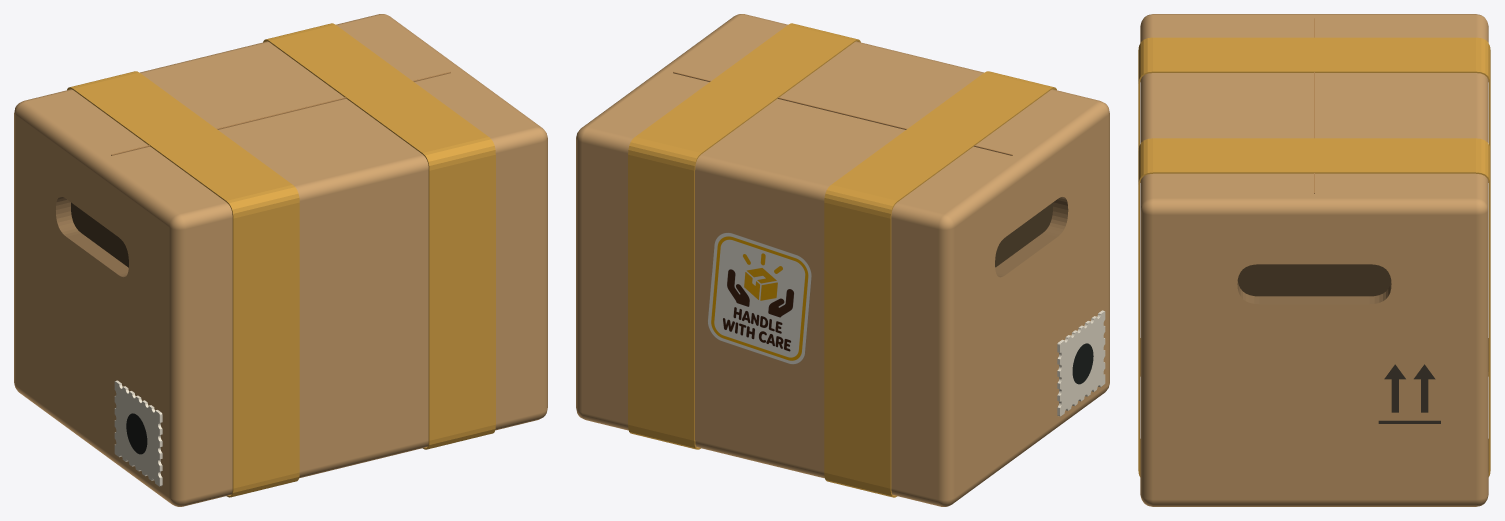
The model's file is play-parcel-large-yellow.glb.
The picture shows the model from 3 angles, left to right: view 1: azimuth 30°, elevation 25°; view 2: azimuth 150°, elevation 25°; view 3: azimuth 270°, elevation 25°; orthographic projection. The views are drawn at different scales.
Parts seen in each view (by area): view 1: Parcel_Carton, Parcel_Tape_Parallel_1, Parcel_Tape_Parallel_2, Parcel_Paper_Label, Parcel_Carry_Slot_Walls_Negative_X, Parcel_Carry_Slot_Interior_Negative_X, Parcel_Label_Circle; view 2: Parcel_Carton, Parcel_Tape_Parallel_1, Parcel_Tape_Parallel_2, Parcel_Care_H3_Artwork, Parcel_Paper_Label, Parcel_Carry_Slot_Walls_Negative_X, Parcel_Carry_Slot_Interior_Negative_X, Parcel_Label_Circle; view 3: Parcel_Carton, Parcel_Tape_Parallel_2, Parcel_Tape_Parallel_1, Parcel_Carry_Slot_Interior_Positive_X, Parcel_Carry_Slot_Walls_Positive_X, Parcel_Up_Arrows_Positive_X.
Boxes of the visible parts, <box> form: Parcel_Carton: <box>14,14,547,506</box>; Parcel_Tape_Parallel_1: <box>67,71,299,497</box>; Parcel_Tape_Parallel_2: <box>263,23,495,449</box>; Parcel_Paper_Label: <box>114,380,162,486</box>; Parcel_Carry_Slot_Walls_Negative_X: <box>56,196,128,277</box>; Parcel_Carry_Slot_Interior_Negative_X: <box>71,202,128,267</box>; Parcel_Label_Circle: <box>126,413,147,454</box>; Parcel_Carton: <box>576,14,1109,506</box>; Parcel_Tape_Parallel_1: <box>824,71,1056,497</box>; Parcel_Tape_Parallel_2: <box>628,23,860,449</box>; Parcel_Care_H3_Artwork: <box>708,232,811,364</box>; Parcel_Paper_Label: <box>1057,310,1105,416</box>; Parcel_Carry_Slot_Walls_Negative_X: <box>995,197,1068,277</box>; Parcel_Carry_Slot_Interior_Negative_X: <box>995,202,1052,267</box>; Parcel_Label_Circle: <box>1072,343,1093,384</box>; Parcel_Carton: <box>1140,14,1488,506</box>; Parcel_Tape_Parallel_2: <box>1138,138,1490,476</box>; Parcel_Tape_Parallel_1: <box>1138,37,1490,376</box>; Parcel_Carry_Slot_Interior_Positive_X: <box>1237,264,1391,296</box>; Parcel_Carry_Slot_Walls_Positive_X: <box>1237,281,1391,304</box>; Parcel_Up_Arrows_Positive_X: <box>1378,364,1440,423</box>.
Bounding box in the file's own units: 0.2526 × 0.187 × 0.192.
11 materials, 1 textured.
